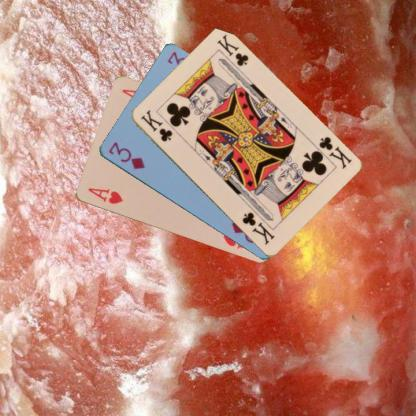3d: (106, 138, 146, 171)
Ah: (85, 185, 124, 206)
Kc: (137, 107, 174, 143), (316, 134, 352, 170)
